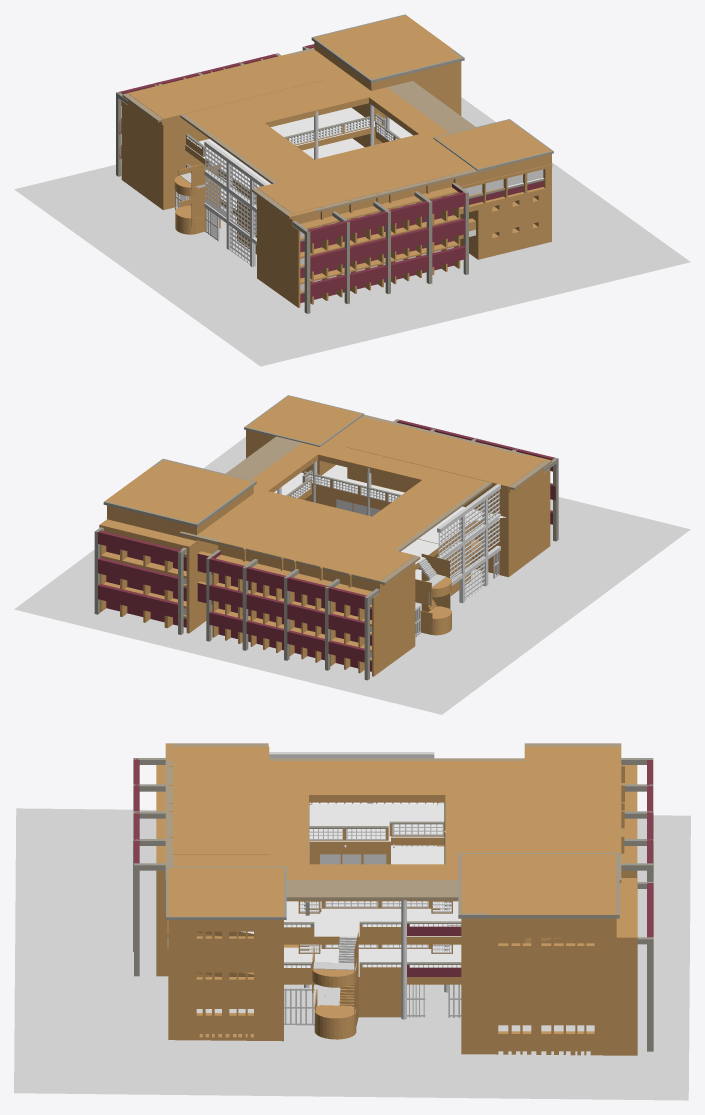
The model's file is Bloque_2.fbx.
The picture shows the model from 3 angles, top to bottom: view 1: azimuth 30°, elevation 25°; view 2: azimuth 150°, elevation 25°; view 3: azimuth 270°, elevation 25°; orthographic projection. The views are drawn at different scales.
Visible parts, largest first — view 1: Plane, Cube.006, Cube.003, Cube.009, Cube.001, Cube.008, Cube, Cube.004, Cube.016, malla_1.001, Cube.007, malla_1.002 (+2 smaller); view 2: Plane, Cube.006, Cube.009, Cube, Cube.003, Cube.007, Cube.014, Cube.001, Cube.004, Cube.016, malla_1.001, Cube.008 (+4 smaller); view 3: Plane, Cube, Cube.006, Cube.001, Cube.003, Cube.009, Cube.016, Cube.004, Cube.008, Cube.007, Cube.014, Cubo.042 (+11 smaller).
Boxes of the visible parts, box(x1,y1,x2,y2) form: Plane: box(14, 97, 690, 366); Cube.006: box(122, 48, 495, 219); Cube.003: box(257, 148, 460, 307); Cube.009: box(121, 53, 324, 210); Cube.001: box(433, 119, 553, 259); Cube.008: box(292, 183, 468, 313); Cube: box(311, 14, 464, 147); Cube.004: box(185, 107, 412, 201); Cube.016: box(220, 138, 475, 254); malla_1.001: box(230, 166, 259, 266); Cube.007: box(116, 53, 280, 176); malla_1.002: box(205, 146, 226, 217); Plane: box(14, 437, 690, 714); Cube.006: box(179, 414, 551, 585); Cube.009: box(212, 516, 415, 676); Cube: box(99, 458, 256, 633); Cube.003: box(347, 421, 550, 577); Cube.007: box(206, 550, 379, 680); Cube.014: box(94, 527, 186, 634); Cube.001: box(244, 395, 364, 501); Cube.004: box(197, 465, 505, 574); Cube.016: box(197, 487, 482, 604); malla_1.001: box(465, 490, 499, 600); Cube.008: box(393, 419, 558, 541); Plane: box(14, 808, 690, 1100); Cube: box(458, 853, 637, 1055); Cube.006: box(165, 743, 621, 901); Cube.001: box(166, 866, 286, 1041); Cube.003: box(156, 746, 269, 976); Cube.009: box(524, 746, 637, 877); Cube.016: box(197, 805, 461, 984); Cube.004: box(197, 803, 561, 944); Cube.008: box(133, 758, 165, 976); Cube.007: box(621, 758, 653, 881); Cube.014: box(637, 882, 653, 1051); Cubo.042: box(314, 1005, 356, 1039).
Bounding box in the file's own units: 236 × 64.33 × 236.
